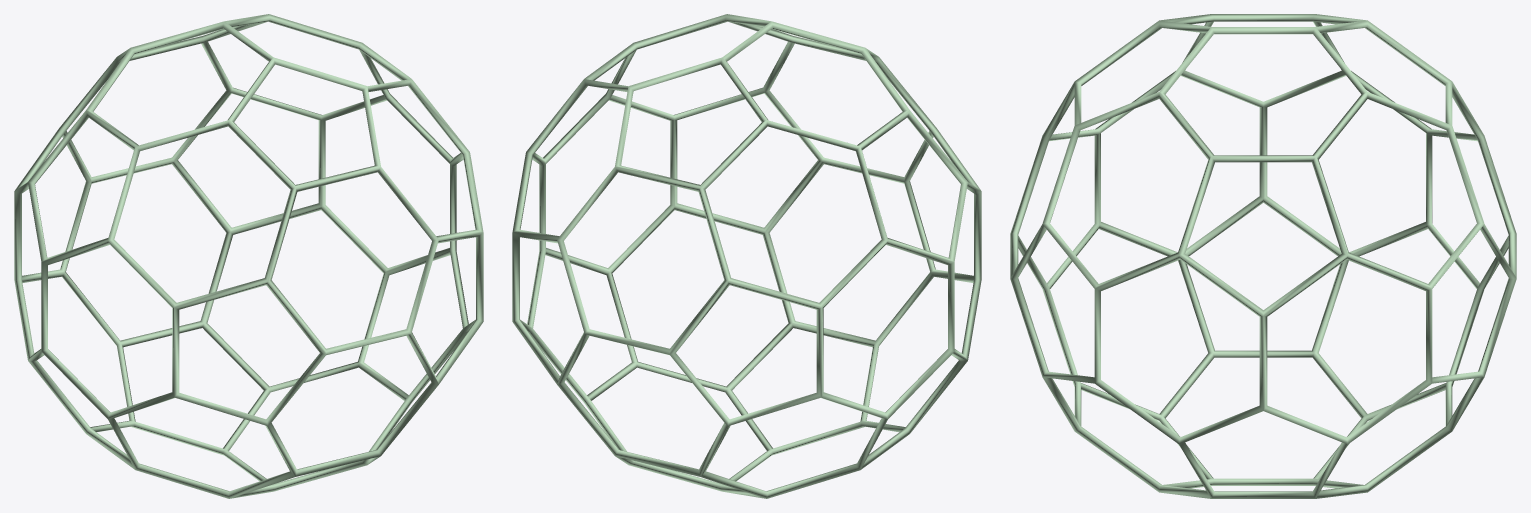
Rendered from TruncatedIcosahedron1.glb.
3 renders of one model, left to right at view 1: azimuth 30°, elevation 25°; view 2: azimuth 150°, elevation 25°; view 3: azimuth 270°, elevation 25°, orthographic. The views are drawn at different scales.
Visible parts, largest first — view 1: TruncatedIcosahedron; view 2: TruncatedIcosahedron; view 3: TruncatedIcosahedron.
Boxes of the visible parts, x1=… form: TruncatedIcosahedron: x1=14, y1=14, x2=483, y2=498; TruncatedIcosahedron: x1=512, y1=14, x2=981, y2=498; TruncatedIcosahedron: x1=1010, y1=14, x2=1516, y2=498.
Bounding box in the file's own units: 4.93 × 4.93 × 4.93.
